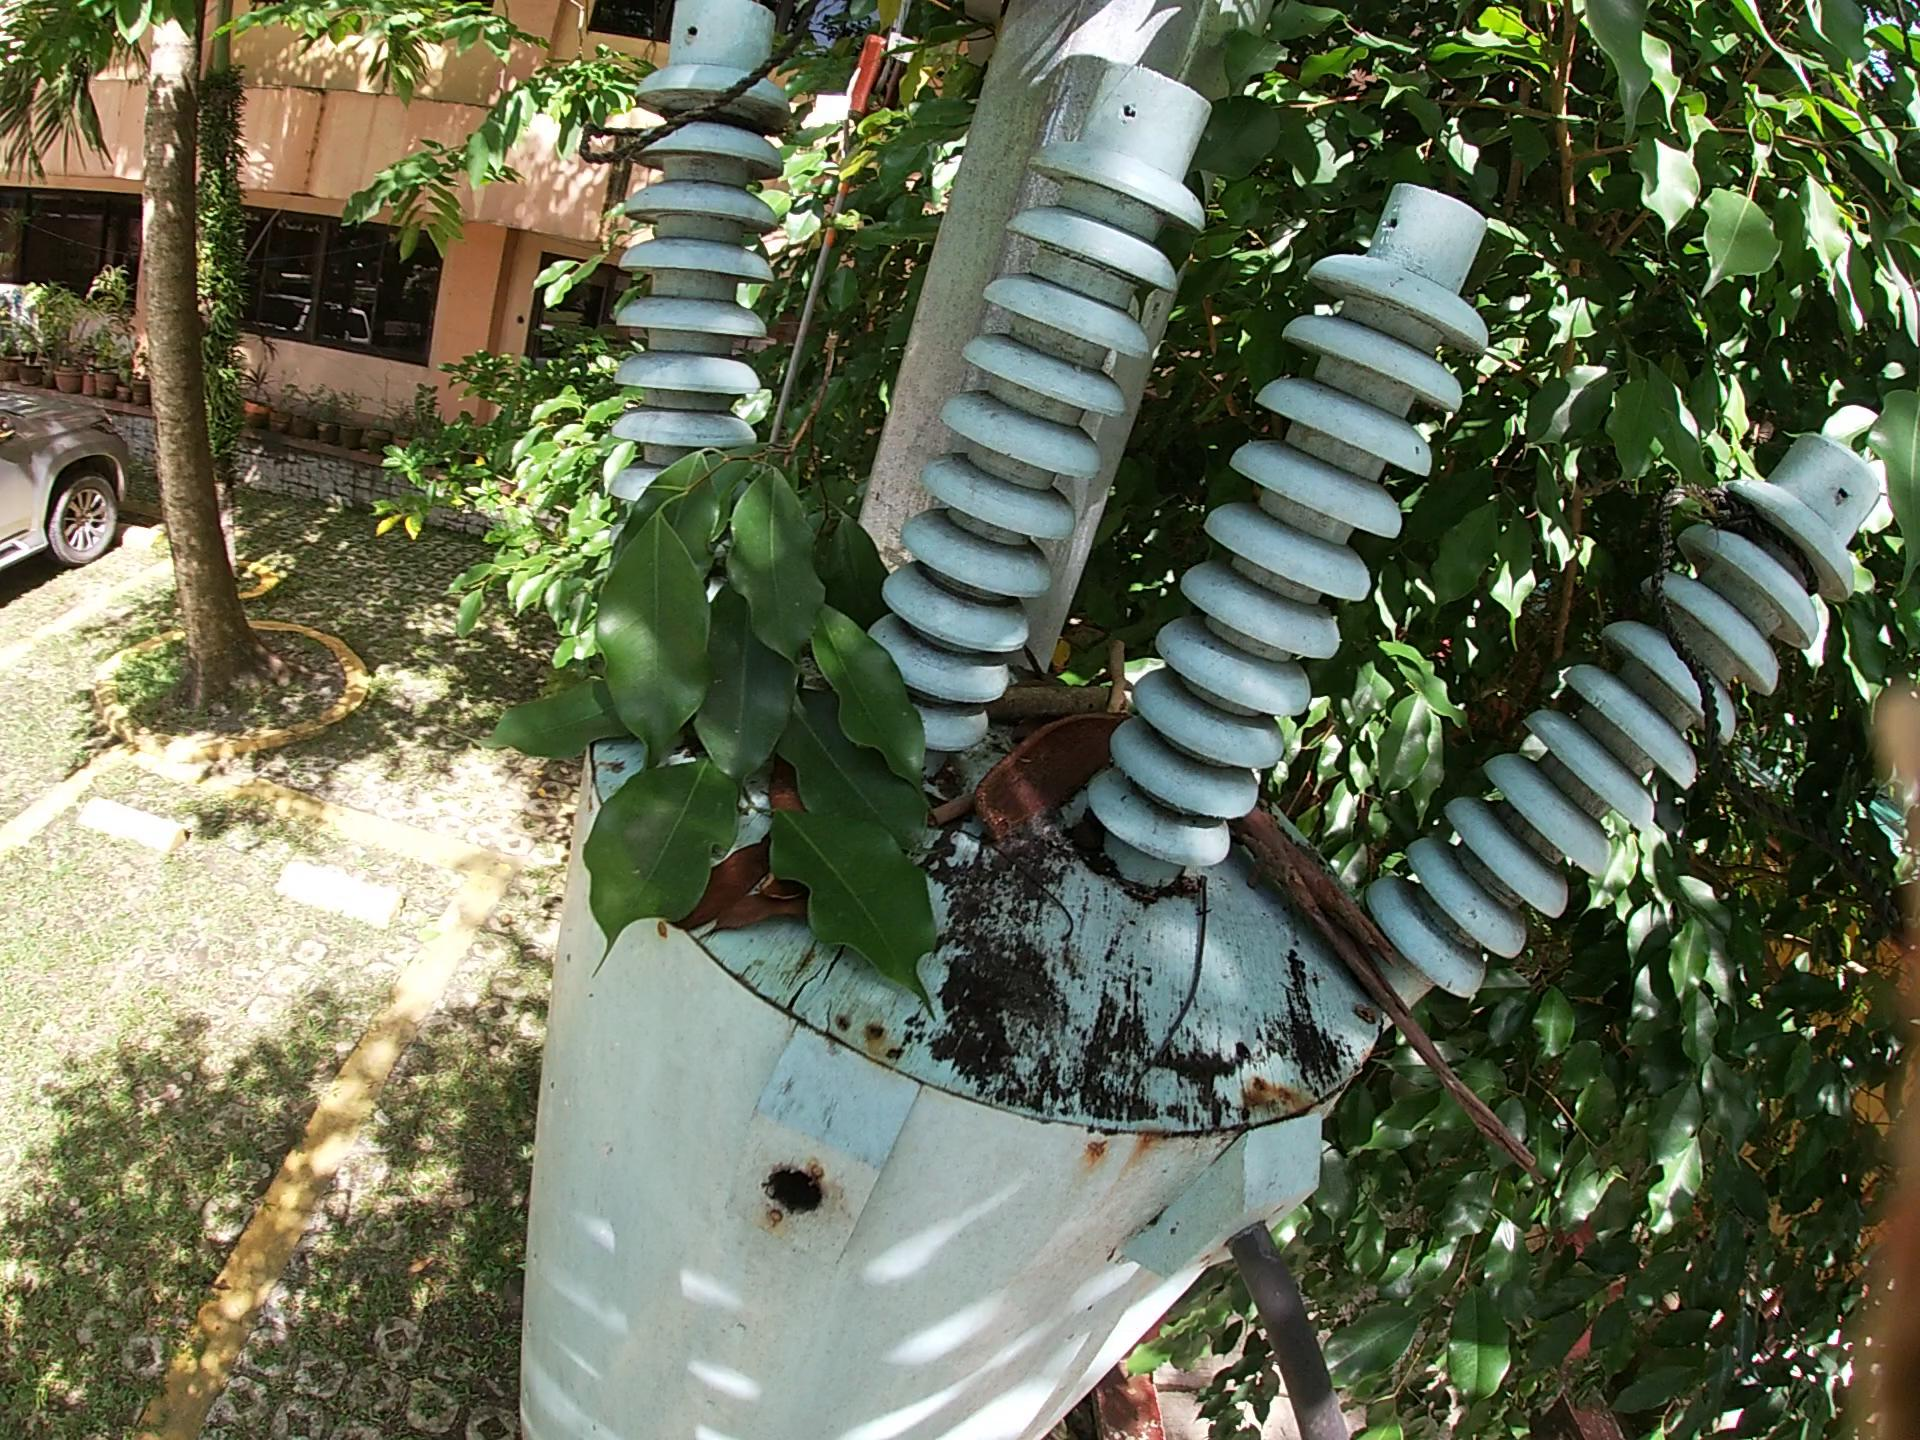branch with leaves: (461, 380, 921, 1038)
mahogany fruit: (969, 712, 1143, 838), (667, 846, 842, 933), (748, 743, 801, 818)
tree branch: (1228, 781, 1548, 1184), (943, 824, 1082, 942), (1137, 870, 1211, 1085), (987, 679, 1117, 712), (1104, 634, 1123, 722), (928, 793, 983, 818)
